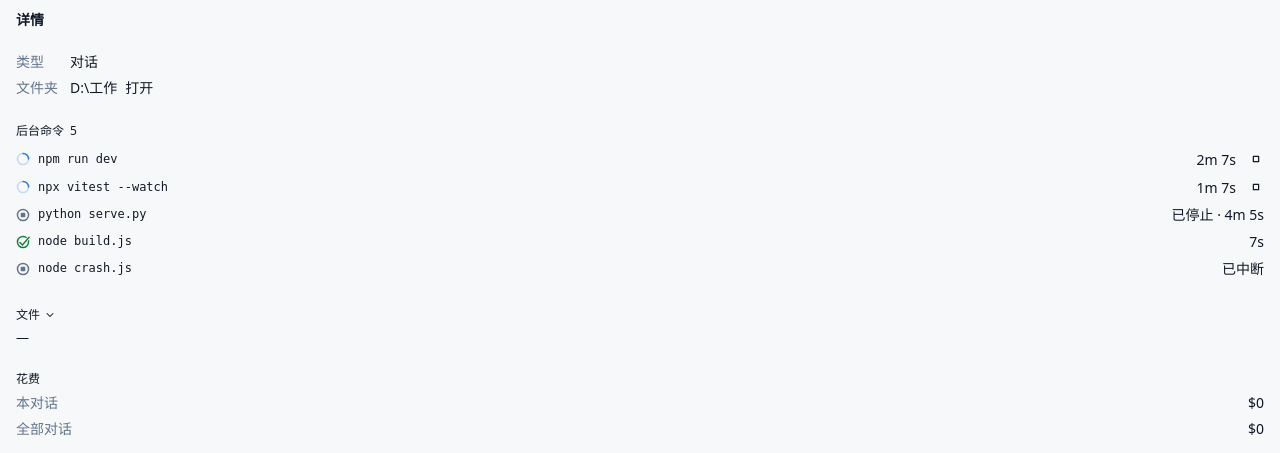
Test: 详情 › 后台命令 › running ones first with their time ticking and 停止; ended ones after, newest first, with how they ended
This screenshot has width=1280, height=453.
Expected: the heading with class "detail-title" reads "后台命令 5", [16, 122, 77, 139]
Expected: the text with class "detail-item-meta" reads "2m 7s", [1196, 150, 1236, 168]
Step 1. Click the button named "停止 " → (1256, 187), box [1244, 175, 1268, 199]
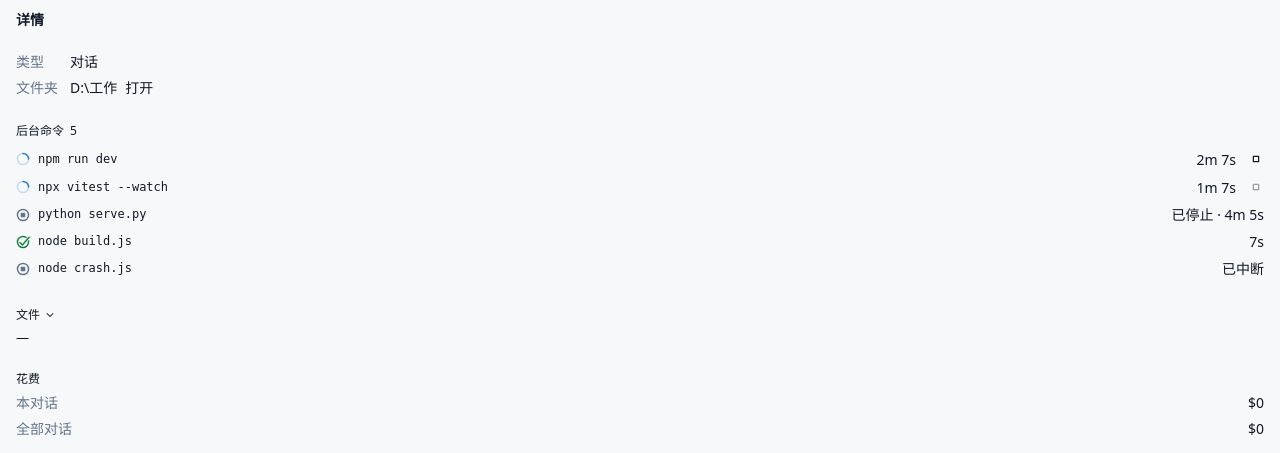
Expected: the button named "停止 " is enabled, [1244, 147, 1268, 171]
Expected: the button named "停止 " is disabled, [1244, 175, 1268, 199]
